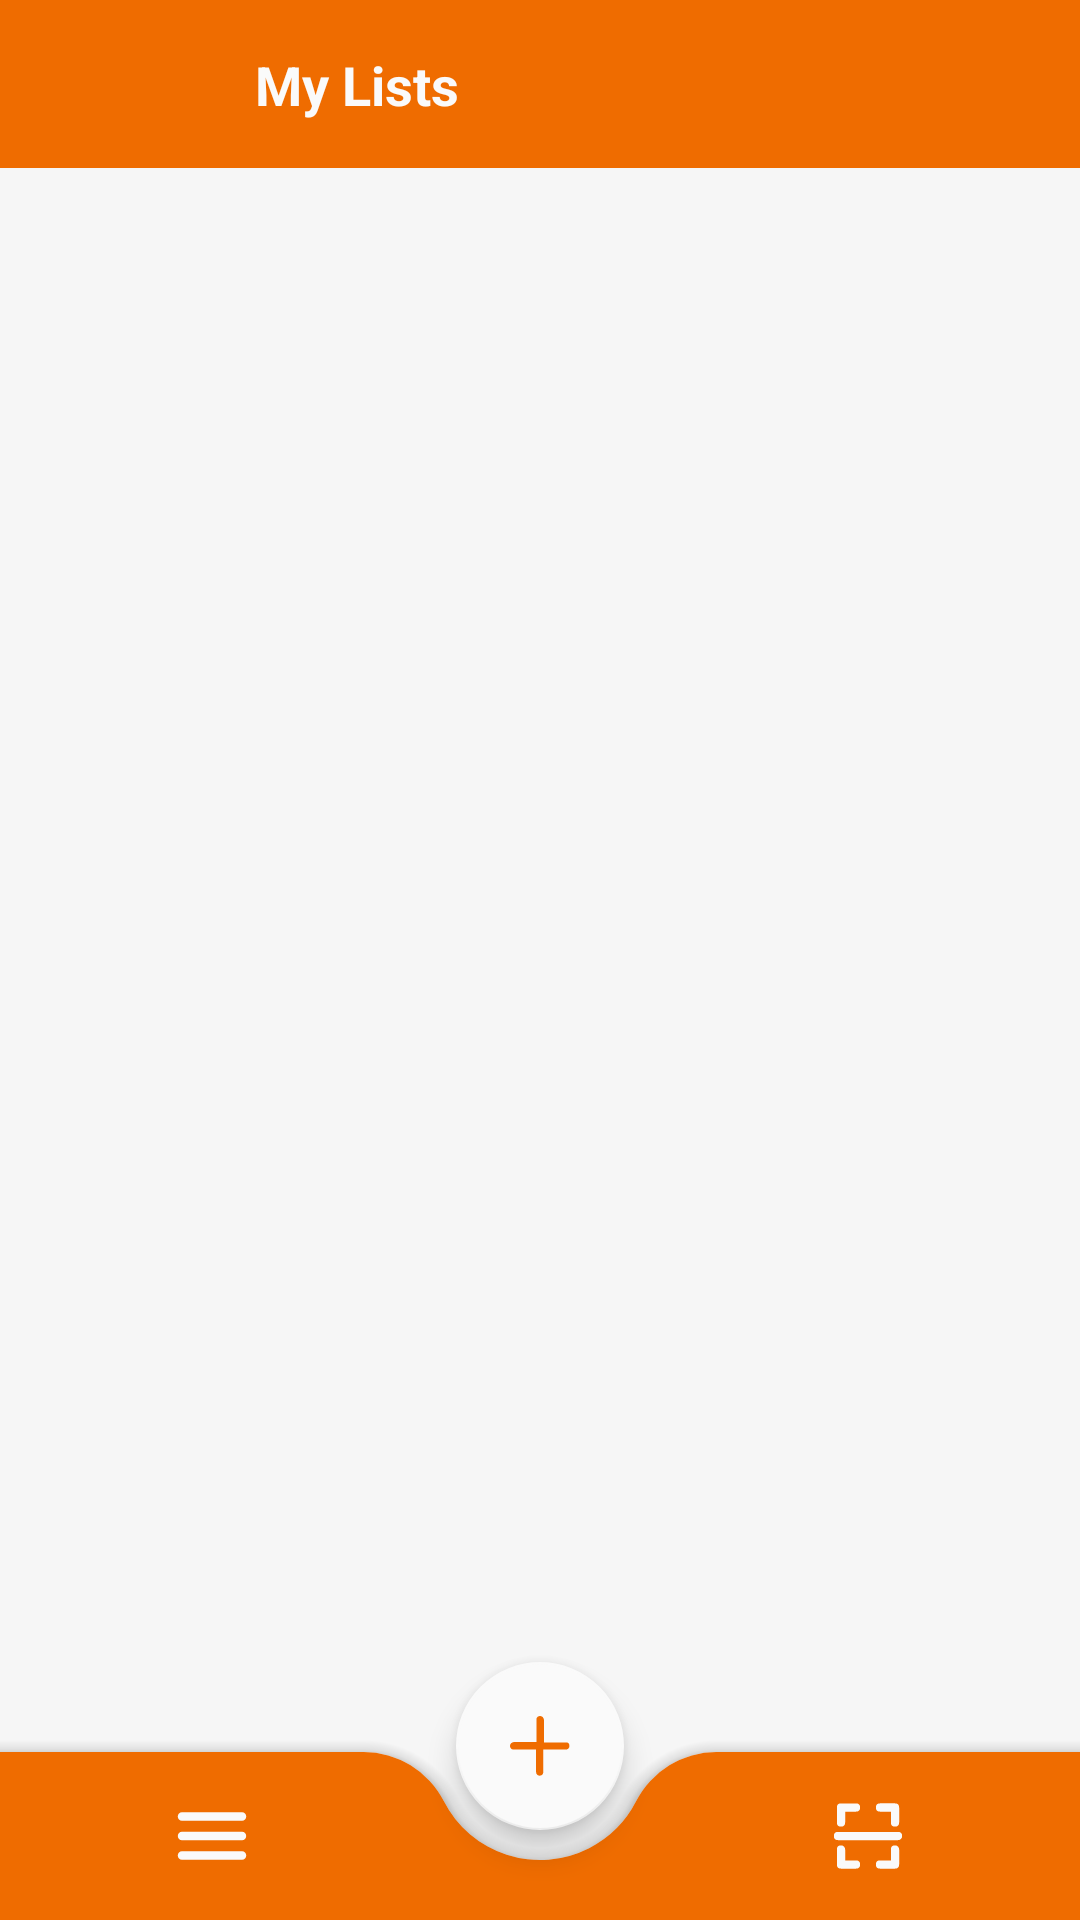

Where to tap for icons on this 1080*1920 app screen, as [x,y]:
add list btn: [540,1773]
